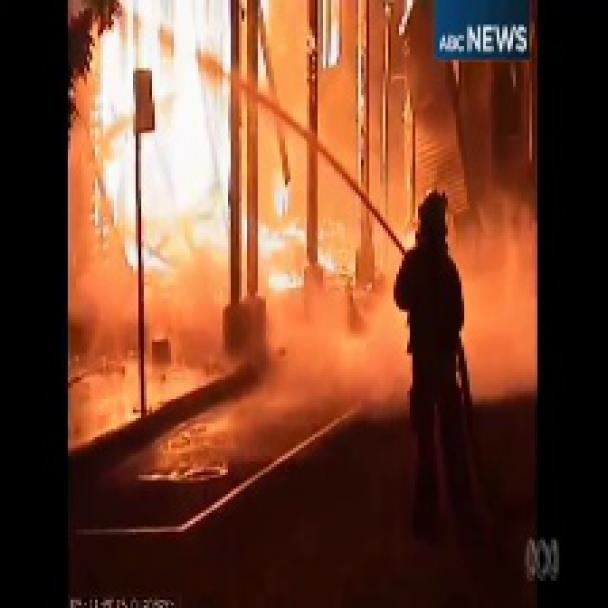Fire: (67, 0, 541, 557)
